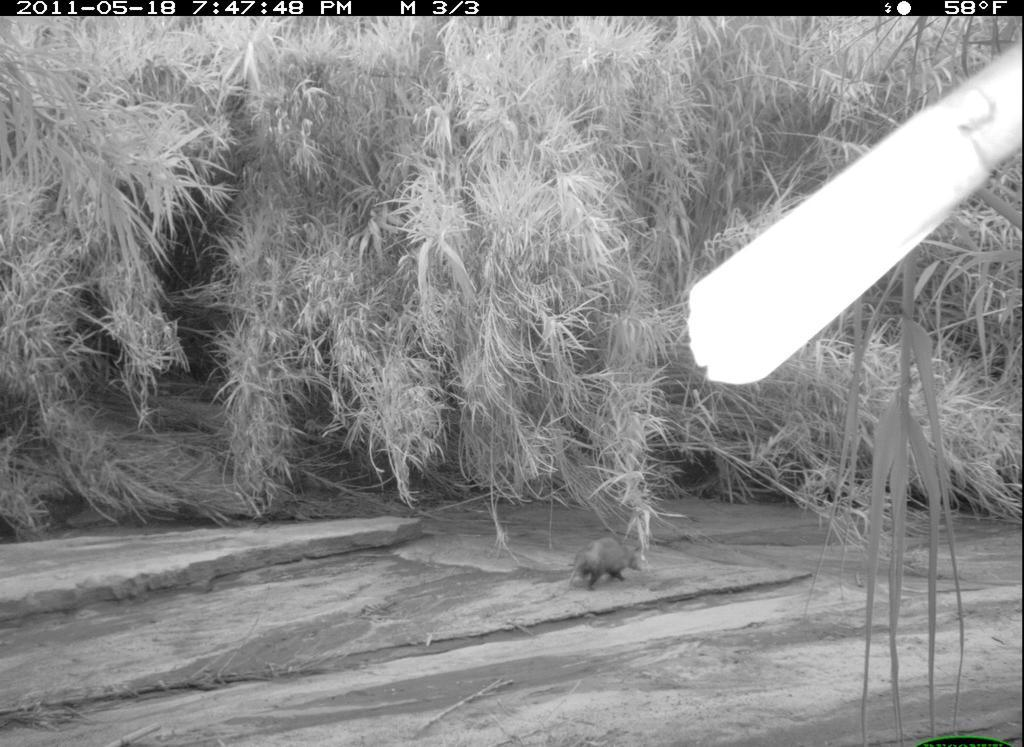opossum: (566, 530, 670, 591)
